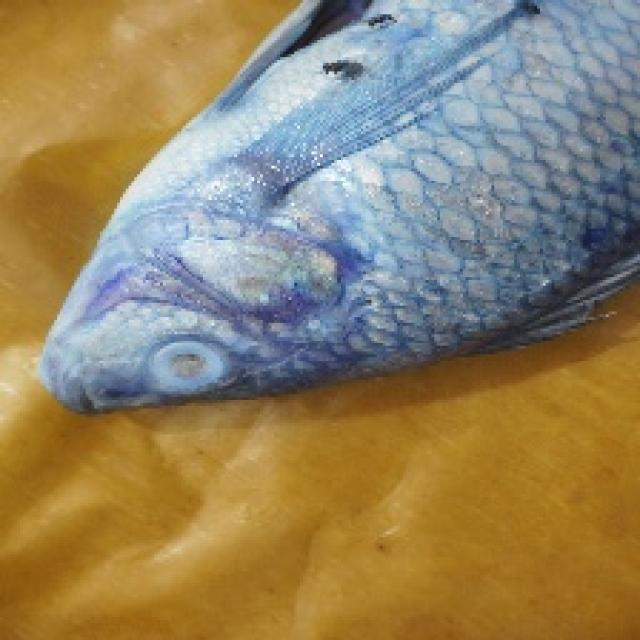Non-Fresh: (77, 31, 640, 403), (137, 322, 243, 402)
